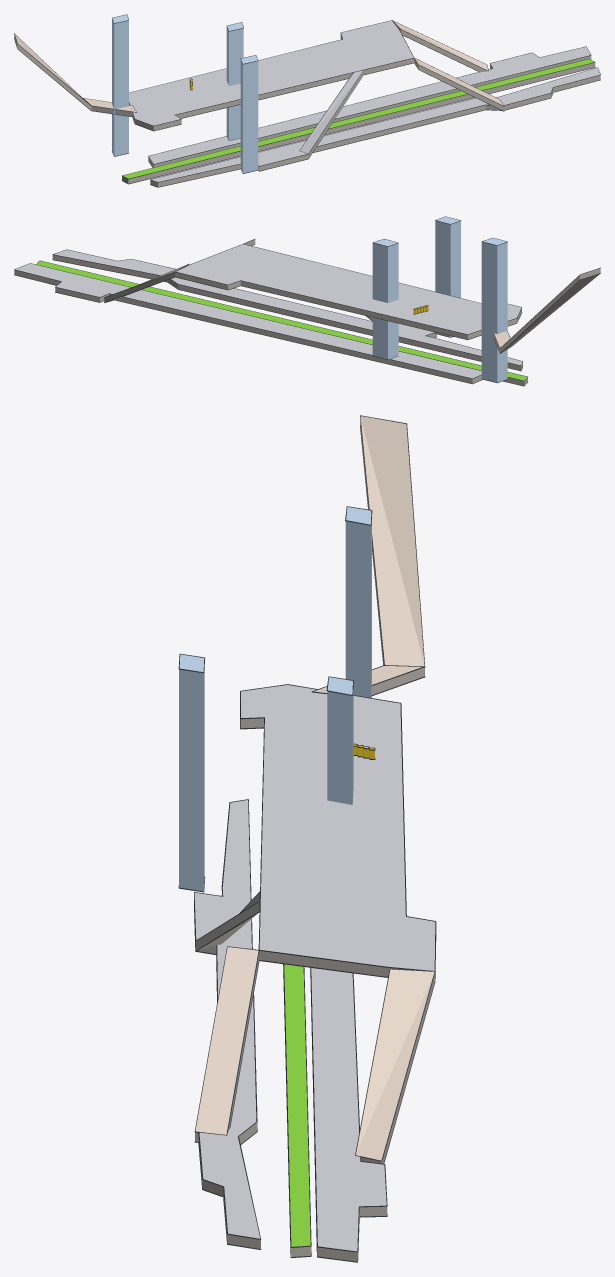
The model's file is alameda_de_osuna.glb.
3 views of the same model, one above another, from view 1: azimuth 30°, elevation 25°; view 2: azimuth 150°, elevation 25°; view 3: azimuth 270°, elevation 25° (orthographic). The views are drawn at different scales.
Visible parts, largest first — view 1: Vestibulo superior poligonal, Anden frontal y retorno con muesca, Anden posterior con entrantes extremos, Franja L5 visible, Ascensor acceso exterior, Ascensor frontal, Ascensor posterior, Enlace diagonal entre niveles, Franja L5 visible borde, Bajada posterior derecha, Anden frontal y retorno con muesca borde, Bajada frontal derecha (+7 smaller); view 2: Vestibulo superior poligonal, Anden posterior con entrantes extremos, Anden frontal y retorno con muesca, Ascensor acceso exterior, Ascensor posterior, Franja L5 visible, Ascensor frontal, Acceso inclinado oeste, Anden posterior con entrantes extremos borde, Anden frontal y retorno con muesca borde, Vestibulo superior poligonal borde, Anden posterior con entrantes extremos borde.001 (+4 smaller); view 3: Vestibulo superior poligonal, Anden posterior con entrantes extremos, Anden frontal y retorno con muesca, Acceso inclinado oeste, Bajada posterior derecha, Bajada frontal derecha, Ascensor frontal, Franja L5 visible, Ascensor acceso exterior, Ascensor posterior, Vestibulo superior poligonal borde, Anden frontal y retorno con muesca borde.
Boxes of the visible parts, <box> form: Vestibulo superior poligonal: <box>129,20,414,130</box>; Anden frontal y retorno con muesca: <box>150,67,600,186</box>; Anden posterior con entrantes extremos: <box>148,47,591,167</box>; Franja L5 visible: <box>122,59,595,183</box>; Ascensor acceso exterior: <box>112,14,128,156</box>; Ascensor frontal: <box>240,55,258,173</box>; Ascensor posterior: <box>226,22,243,140</box>; Enlace diagonal entre niveles: <box>300,70,363,158</box>; Franja L5 visible borde: <box>122,58,595,179</box>; Bajada posterior derecha: <box>393,21,487,72</box>; Anden frontal y retorno con muesca borde: <box>150,67,600,182</box>; Bajada frontal derecha: <box>414,58,503,110</box>; Vestibulo superior poligonal: <box>175,244,521,339</box>; Anden posterior con entrantes extremos: <box>14,263,481,383</box>; Anden frontal y retorno con muesca: <box>52,250,522,370</box>; Ascensor acceso exterior: <box>481,238,507,382</box>; Ascensor posterior: <box>372,239,398,359</box>; Franja L5 visible: <box>36,261,527,385</box>; Ascensor frontal: <box>435,217,460,337</box>; Acceso inclinado oeste: <box>500,268,600,352</box>; Anden posterior con entrantes extremos borde: <box>14,263,481,378</box>; Anden frontal y retorno con muesca borde: <box>52,249,522,365</box>; Vestibulo superior poligonal borde: <box>175,244,521,334</box>; Anden posterior con entrantes extremos borde.001: <box>14,274,482,384</box>; Vestibulo superior poligonal: <box>240,685,435,976</box>; Anden posterior con entrantes extremos: <box>311,968,387,1261</box>; Anden frontal y retorno con muesca: <box>194,800,260,1248</box>; Acceso inclinado oeste: <box>360,416,424,676</box>; Bajada posterior derecha: <box>356,969,434,1163</box>; Bajada frontal derecha: <box>195,947,258,1141</box>; Ascensor frontal: <box>179,654,204,891</box>; Franja L5 visible: <box>284,964,310,1256</box>; Ascensor acceso exterior: <box>345,507,371,697</box>; Ascensor posterior: <box>327,677,353,804</box>; Vestibulo superior poligonal borde: <box>240,684,436,970</box>; Anden frontal y retorno con muesca borde: <box>194,799,260,1239</box>.
Bounding box in the file's own units: 76.05 × 18.92 × 14.92.
